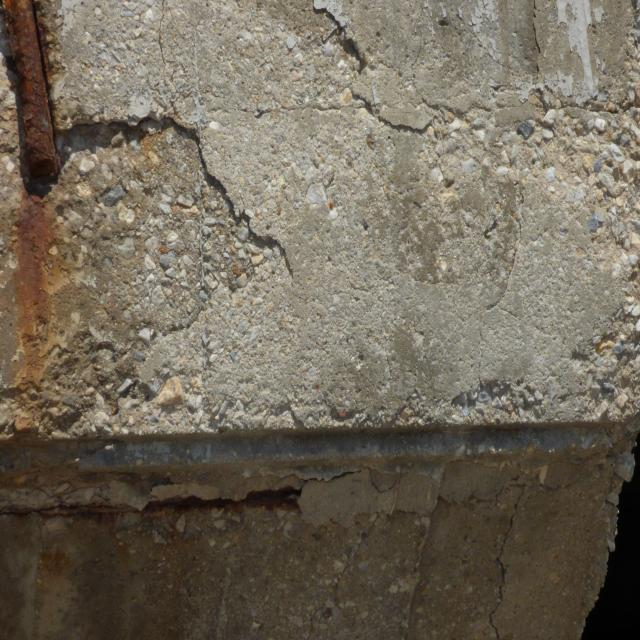corrosion: (0, 458, 331, 640), (0, 0, 101, 431)
